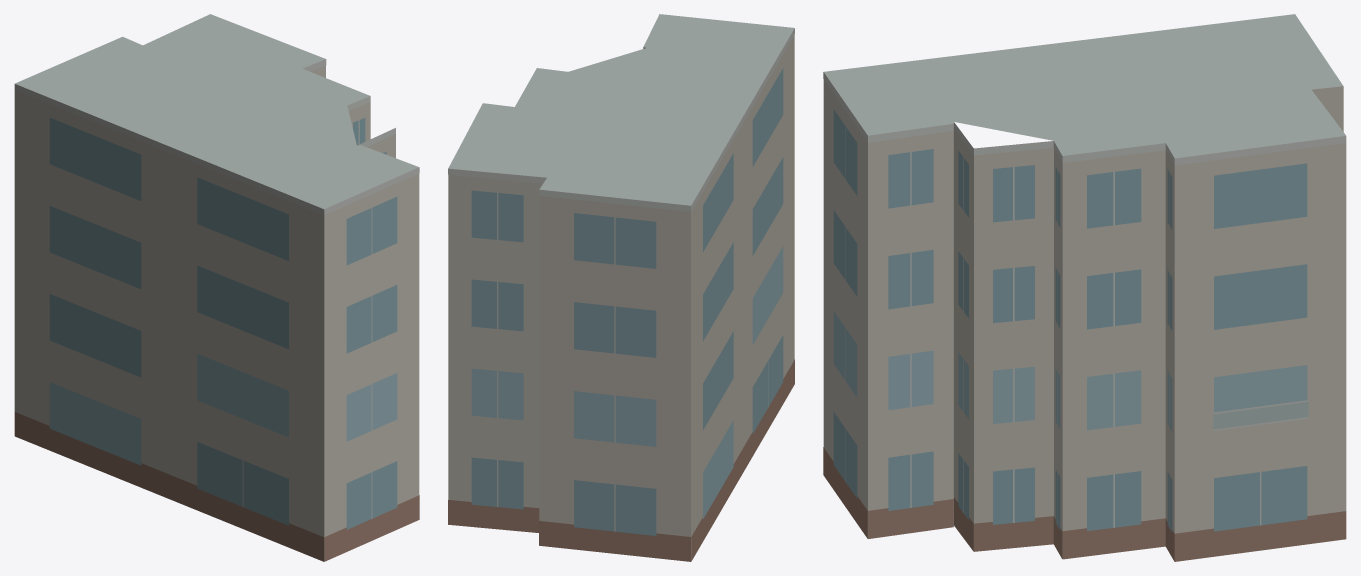
Rendered from survey-upis-32779836.glb.
3 views of the same model, side by side, from view 1: azimuth 30°, elevation 25°; view 2: azimuth 150°, elevation 25°; view 3: azimuth 270°, elevation 25° (orthographic). The views are drawn at different scales.
Parts seen in each view (by area): view 1: survey-upis-32779836.tmp; view 2: survey-upis-32779836.tmp; view 3: survey-upis-32779836.tmp.
Part boxes in pixels (left/top/right/bottom): survey-upis-32779836.tmp: left=14, top=14, right=419, bottom=561; survey-upis-32779836.tmp: left=448, top=14, right=794, bottom=561; survey-upis-32779836.tmp: left=823, top=14, right=1346, bottom=561.
Bounding box in the file's own units: 10.77 × 14 × 16.46.
